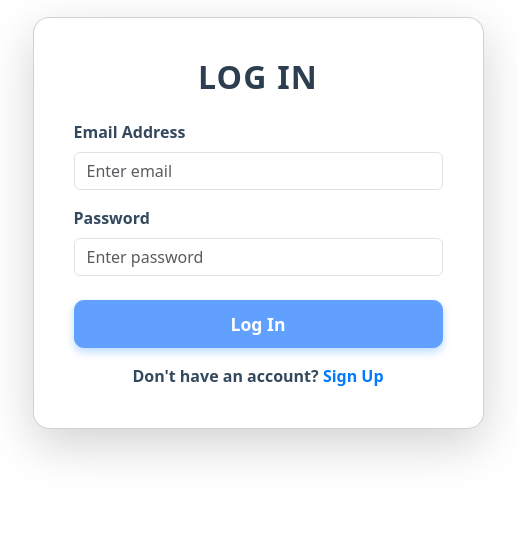
Test: LogIn Component › shows error message on failed login
Type "user@example.com" into the field labelled "Email Address" at [258, 171], box [74,152,442,190]
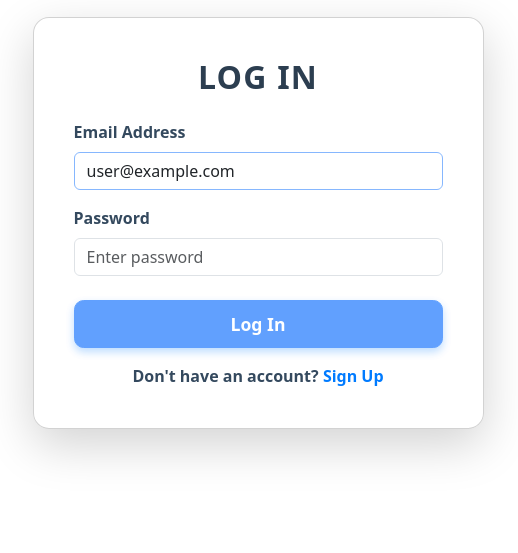
Type "wrongpassword" into the password field labelled "Password" at [258, 257], box [74,238,442,276]
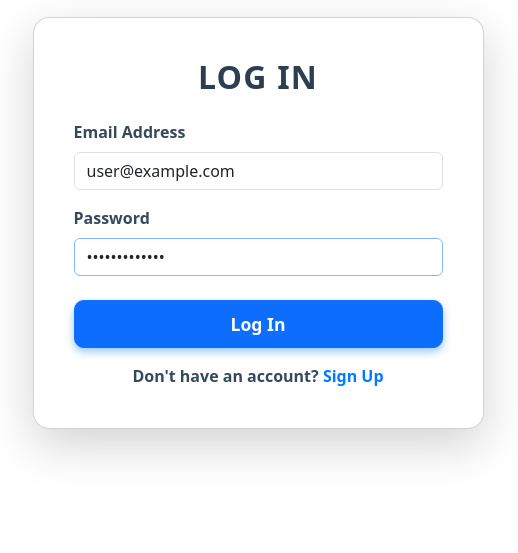
Click the button "Log In" at [258, 324], box [74,300,442,348]
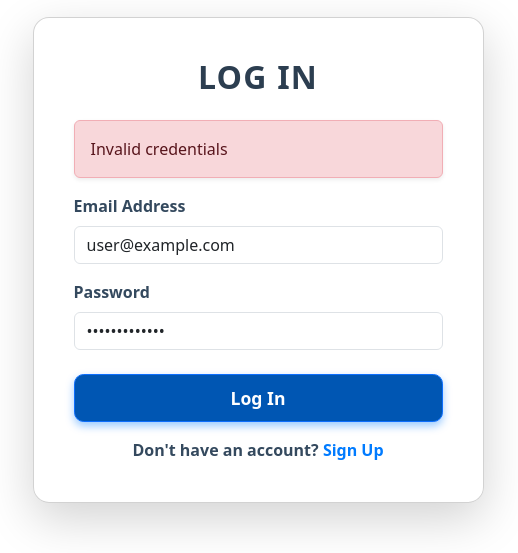
Expected: the text "Invalid credentials" is shown, [74,120,442,178]
